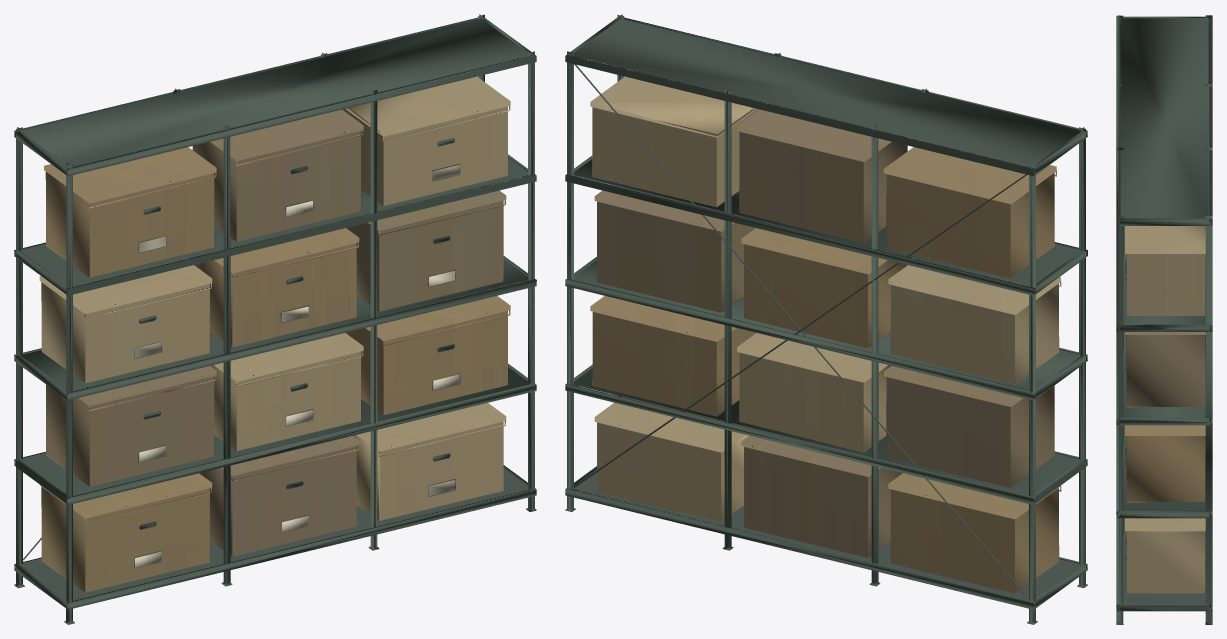
The model's file is archive-bay-distant.glb.
3 renders of one model, left to right at view 1: azimuth 30°, elevation 25°; view 2: azimuth 150°, elevation 25°; view 3: azimuth 270°, elevation 25°, orthographic. The views are drawn at different scales.
Parts seen in each view (by area): view 1: bay-cartons, bay-frame, bay-labels; view 2: bay-cartons, bay-frame; view 3: bay-frame, bay-cartons.
Part boxes in pixels (x1,y1,x2,y2): bay-cartons: (39,76,510,592); bay-frame: (14,14,536,624); bay-labels: (135,165,459,567); bay-cartons: (590,70,1061,593); bay-frame: (565,14,1087,624); bay-frame: (1116,15,1212,624); bay-cartons: (1125,226,1205,593).
Bounding box in the file's own units: 3 × 2.8 × 0.6.
Materials: 3 (2 with a texture image).
